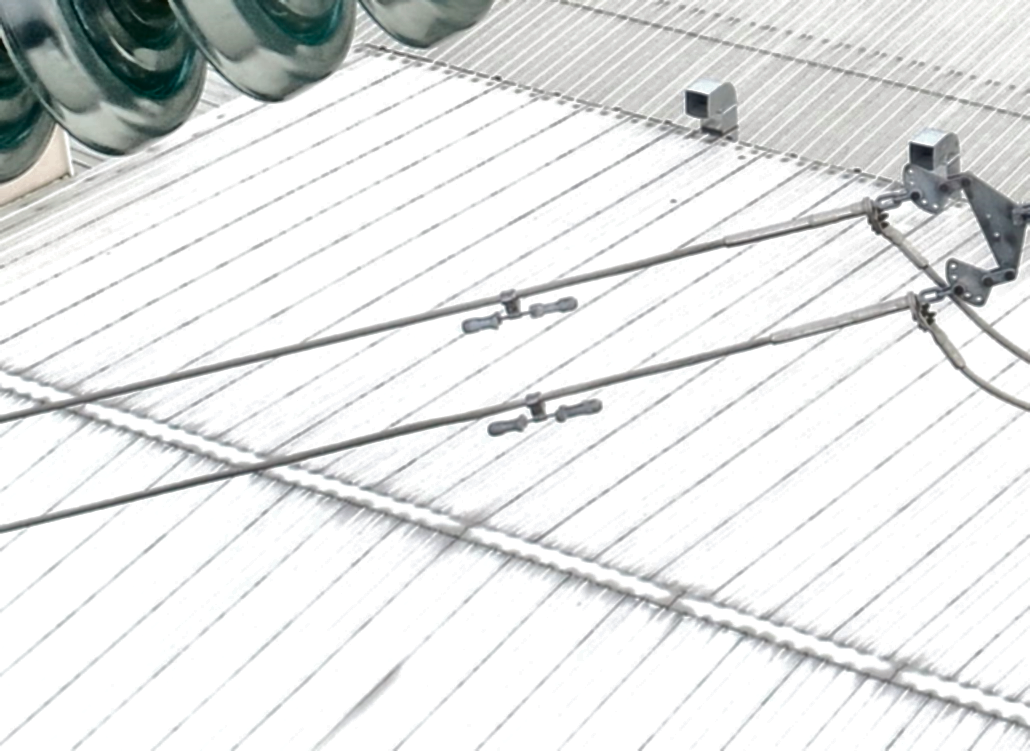damper: (481, 387, 604, 439), (456, 287, 580, 333)
